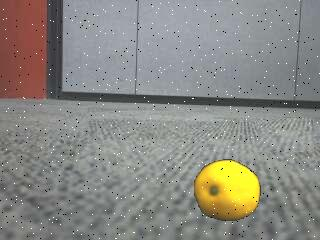Lemon: (192, 159, 262, 222)
